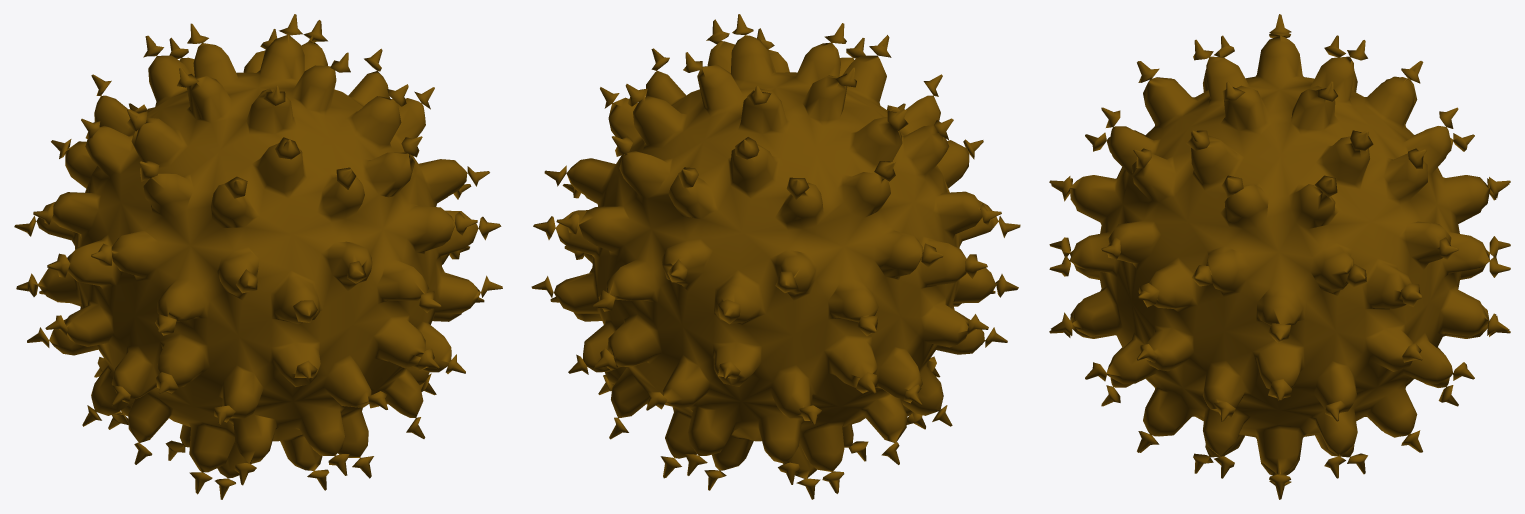
File: virus_orange.fbx
3 renders of one model, left to right at view 1: azimuth 30°, elevation 25°; view 2: azimuth 150°, elevation 25°; view 3: azimuth 270°, elevation 25°, orthographic.
Parts seen in each view (by area): view 1: Icosphere; view 2: Icosphere; view 3: Icosphere.
Part boxes in pixels (x1=…): Icosphere: x1=14, y1=14, x2=502, y2=499; Icosphere: x1=531, y1=14, x2=1020, y2=499; Icosphere: x1=1049, y1=14, x2=1510, y2=499.
Size of the model in its own units: 255 by 239 by 243.
